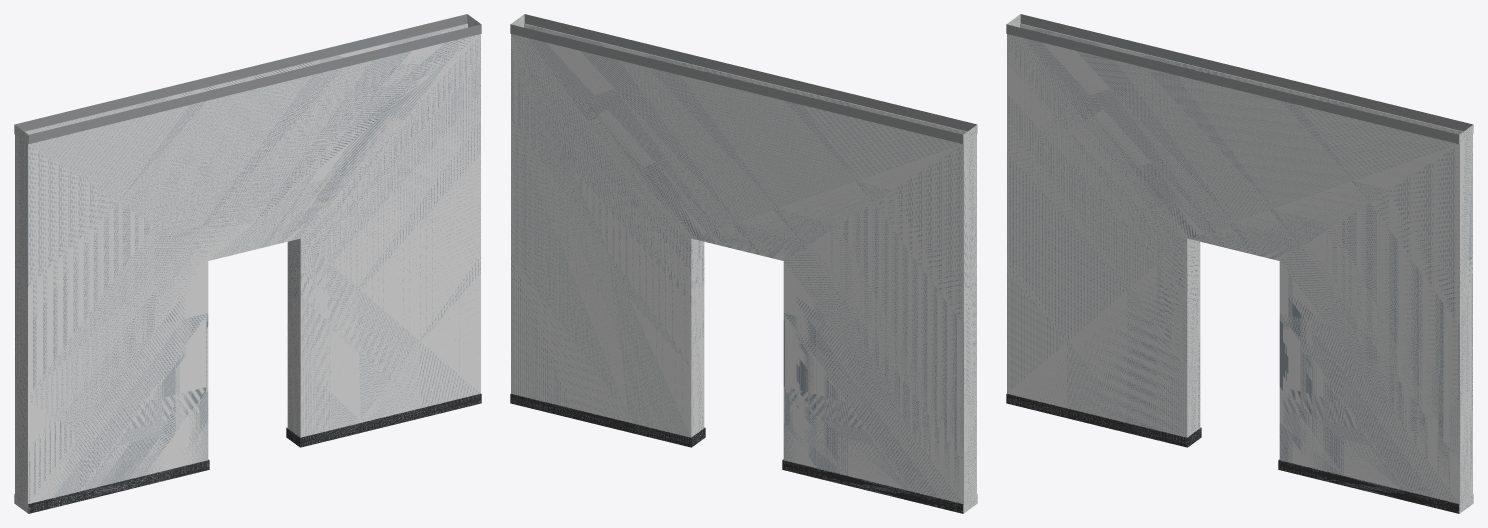
Rendered from BlockWall_ds_plinth_[500x400]_102x220_doorway.dae.
The picture shows the model from 3 angles, left to right: view 1: azimuth 30°, elevation 25°; view 2: azimuth 150°, elevation 25°; view 3: azimuth 330°, elevation 25°; orthographic projection.
Visible parts, largest first — view 1: group_0 (×5); view 2: group_0 (×5); view 3: group_0 (×5).
Part boxes in pixels (x1,y1,x2,y2): group_0 (×5): (14,14,481,513); group_0 (×5): (510,14,977,513); group_0 (×5): (1006,14,1473,513).
Bounding box in the file's own units: 197 × 10.63 × 157.
